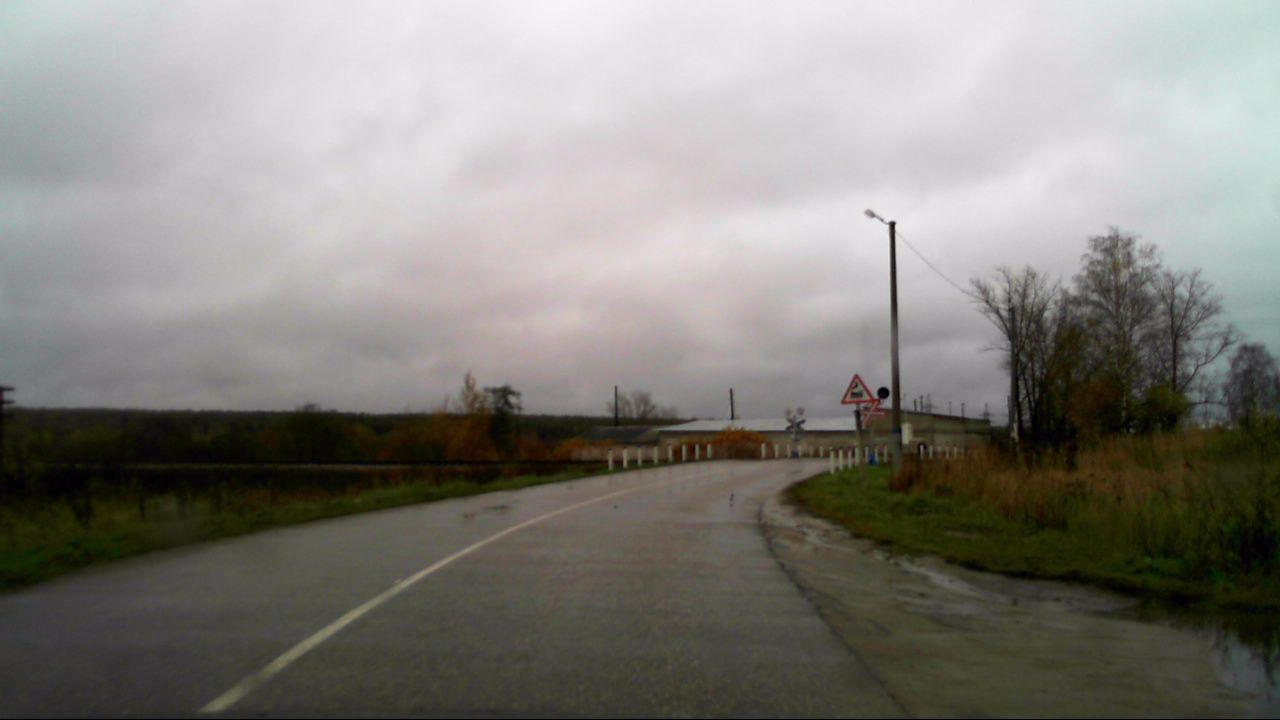1_2: (840, 374, 873, 404)
1_3_1: (859, 399, 885, 425)
